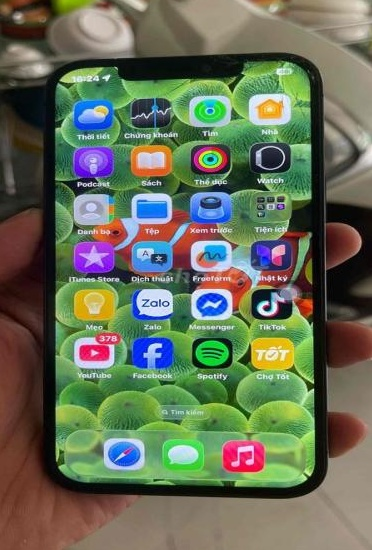physical_damage: (256, 75, 326, 128), (225, 61, 312, 80), (169, 72, 214, 95), (144, 89, 167, 100)
